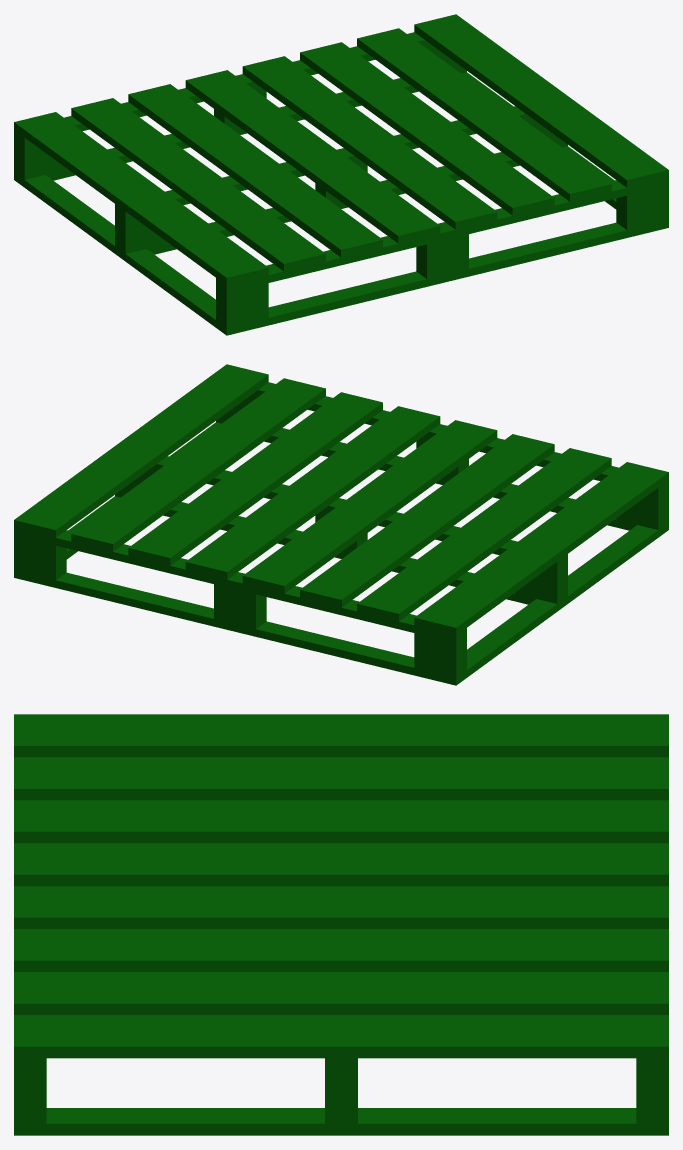
The model's file is EmptyPallet.dae.
3 views of the same model, one above another, from view 1: azimuth 30°, elevation 25°; view 2: azimuth 150°, elevation 25°; view 3: azimuth 270°, elevation 25° (orthographic). The views are drawn at different scales.
Visible parts, largest first — view 1: group_9, group_2, group_3, group_10, group_0, group_7, group_8, group_1, group_5, group_17, group_6, group_4 (+9 smaller); view 2: group_9, group_2, group_3, group_10, group_0, group_7, group_8, group_1, group_16, group_17, group_23, group_19 (+9 smaller); view 3: group_1, group_3, group_7, group_8, group_9, group_0, group_2, group_10, group_22, group_11, group_15, group_20.
Part boxes in pixels (x1,y1,x2,y2): group_9: [185, 70, 440, 243]; group_2: [242, 56, 497, 229]; group_3: [128, 84, 382, 257]; group_10: [300, 42, 554, 215]; group_0: [357, 28, 611, 201]; group_7: [71, 98, 325, 271]; group_8: [14, 112, 268, 285]; group_1: [414, 14, 668, 187]; group_5: [247, 222, 647, 330]; group_17: [14, 172, 247, 335]; group_6: [216, 177, 668, 292]; group_4: [216, 283, 268, 327]; group_9: [242, 420, 497, 593]; group_2: [185, 406, 440, 579]; group_3: [300, 434, 554, 607]; group_10: [128, 392, 382, 565]; group_0: [71, 378, 325, 551]; group_7: [357, 448, 611, 621]; group_8: [414, 462, 668, 635]; group_1: [14, 364, 268, 537]; group_16: [35, 572, 435, 680]; group_17: [435, 522, 668, 685]; group_23: [14, 527, 466, 642]; group_19: [414, 633, 466, 677]; group_1: [14, 1015, 668, 1058]; group_3: [14, 800, 668, 843]; group_7: [14, 757, 668, 800]; group_8: [14, 714, 668, 757]; group_9: [14, 843, 668, 886]; group_0: [14, 972, 668, 1014]; group_2: [14, 886, 668, 928]; group_10: [14, 929, 668, 971]; group_22: [14, 1108, 668, 1135]; group_11: [325, 1070, 357, 1123]; group_15: [14, 1070, 46, 1123]; group_20: [636, 1070, 668, 1123].
Bounding box in the file's own units: 47.24 × 39.37 × 5.91.
